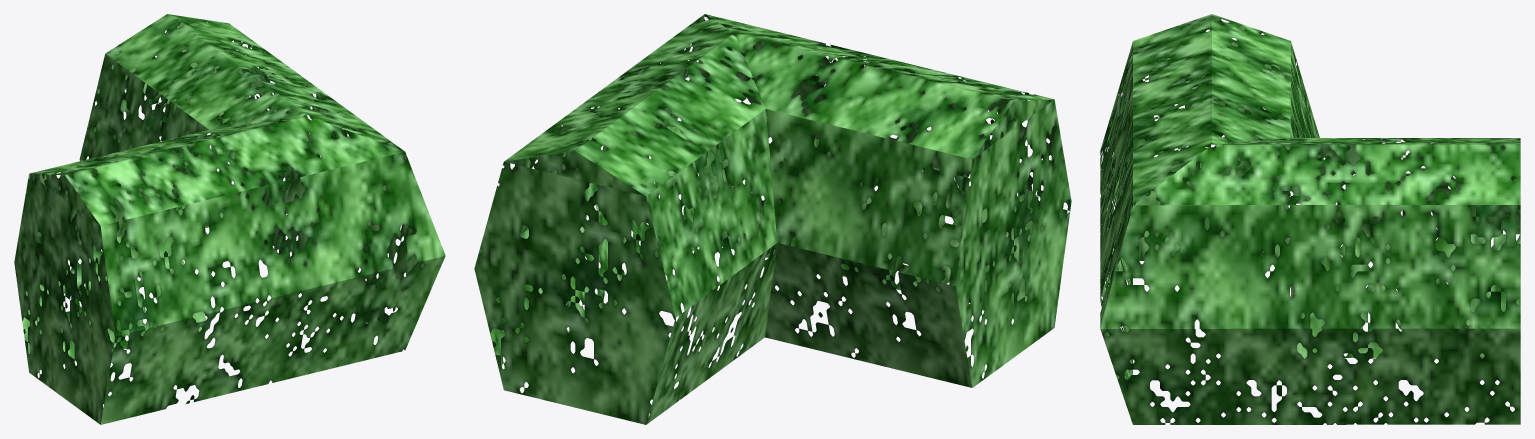
Rendered from bush_square_corner_spring.fbx.
3 views of the same model, side by side, from view 1: azimuth 30°, elevation 25°; view 2: azimuth 150°, elevation 25°; view 3: azimuth 270°, elevation 25° (orthographic). The views are drawn at different scales.
Visible parts, largest first — view 1: bush_square_corner_spring; view 2: bush_square_corner_spring; view 3: bush_square_corner_spring.
Boxes of the visible parts, box(x1,y1,x2,y2) form: bush_square_corner_spring: box(14, 14, 445, 424); bush_square_corner_spring: box(474, 14, 1071, 424); bush_square_corner_spring: box(1100, 14, 1520, 424).
Bounding box in the file's own units: 136 × 87.65 × 135.
Materials: 1 (1 with a texture image).
